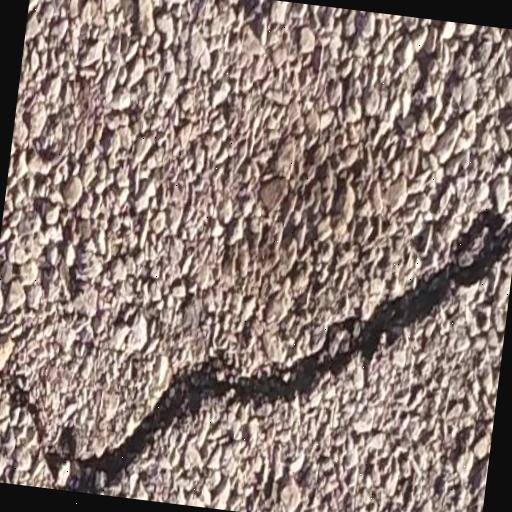spalling: (0, 182, 509, 492)
